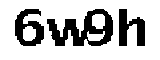6: (13, 6, 45, 51)
9: (88, 9, 115, 49)
h: (116, 6, 148, 48)
w: (45, 15, 87, 50)
